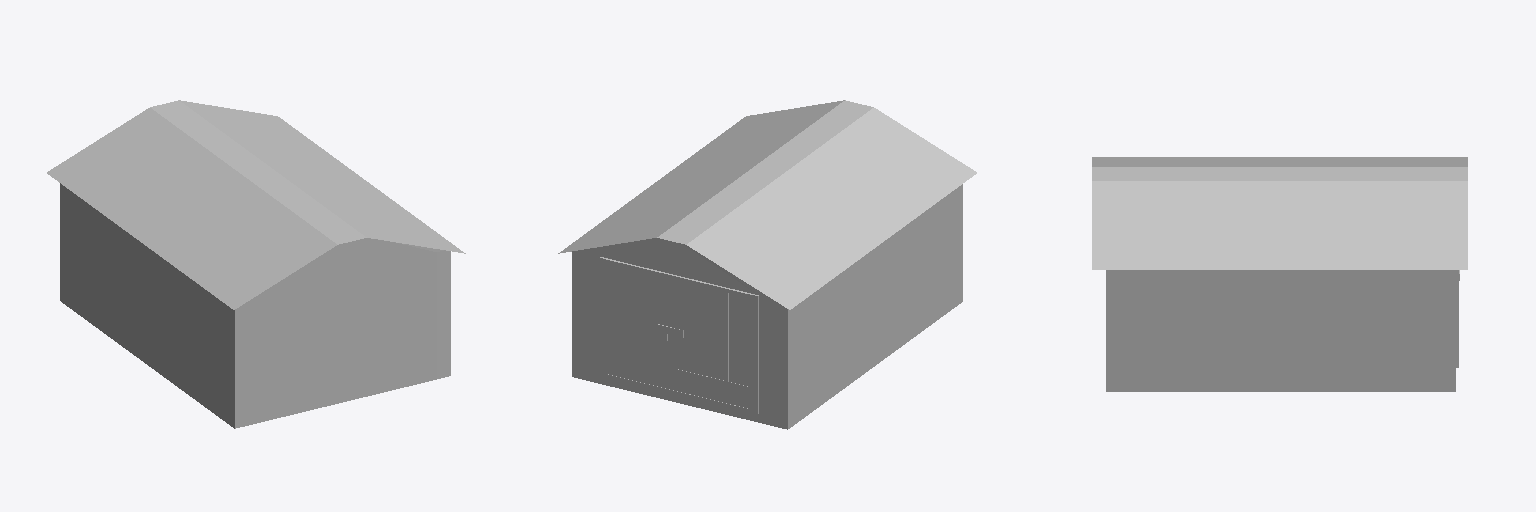
File: GARAZ.obj
3 renders of one model, left to right at view 1: azimuth 30°, elevation 25°; view 2: azimuth 150°, elevation 25°; view 3: azimuth 270°, elevation 25°, orthographic.
Visible parts, largest first — view 1: Плоскость; view 2: Плоскость, Плоскость.001; view 3: Плоскость.
Part boxes in pixels (left/top/right/bottom): Плоскость: left=47, top=100, right=465, bottom=428; Плоскость: left=558, top=100, right=976, bottom=429; Плоскость.001: left=600, top=257, right=758, bottom=414; Плоскость: left=1092, top=157, right=1467, bottom=391.
Size of the model in its own units: 8.24 by 5.63 by 11.56.